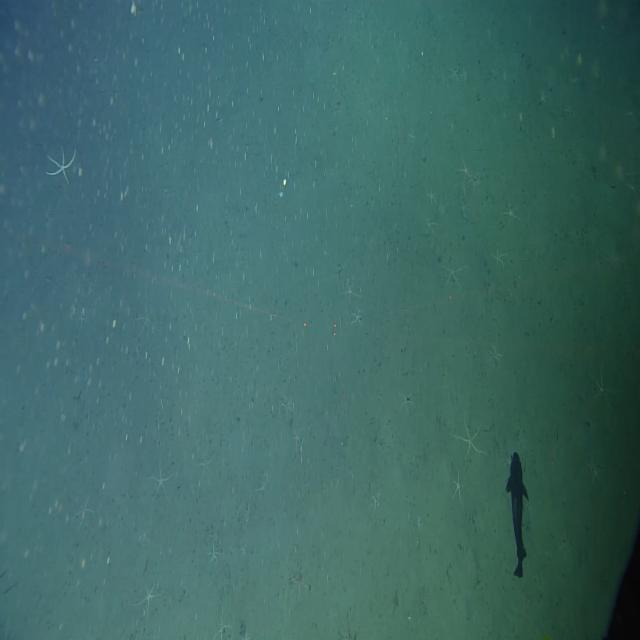Brittle Star: (449, 406, 489, 467), (145, 455, 177, 503), (134, 575, 164, 619), (439, 252, 469, 294), (453, 150, 479, 193), (70, 491, 96, 532), (286, 562, 312, 600), (339, 270, 363, 305), (488, 241, 509, 273), (205, 537, 223, 568), (348, 304, 367, 332)
Not Brittle Star: (502, 445, 532, 582), (43, 140, 79, 188)
